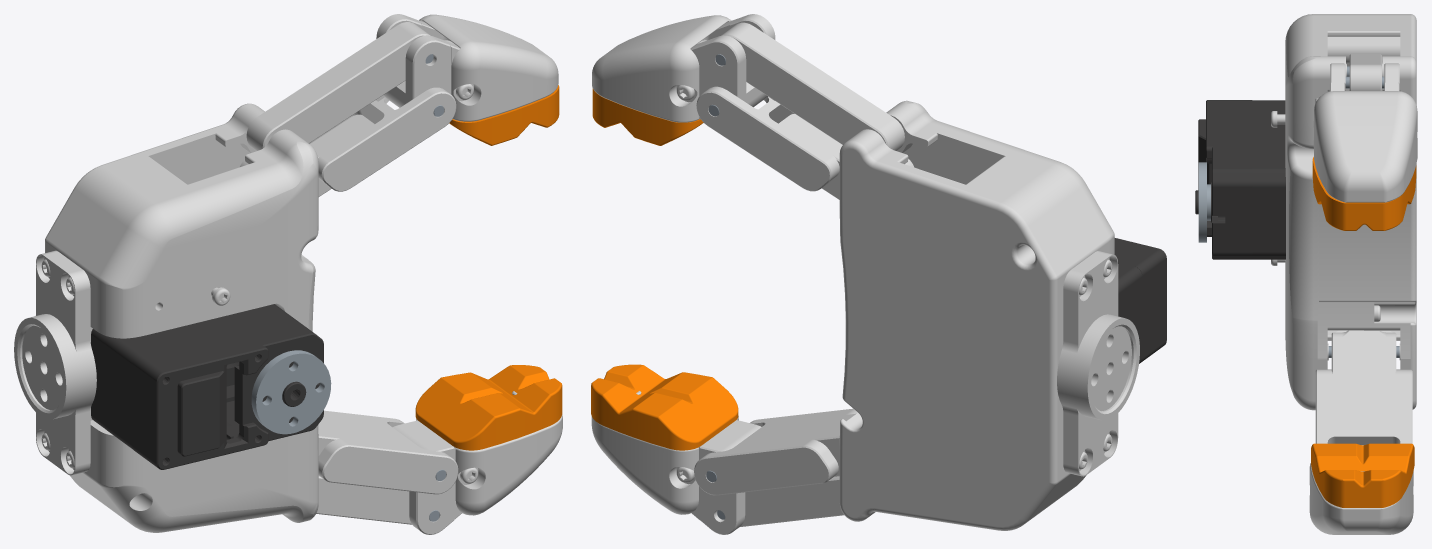
File: gripper_pincopen.obj
3 views of the same model, side by side, from view 1: azimuth 30°, elevation 25°; view 2: azimuth 150°, elevation 25°; view 3: azimuth 270°, elevation 25° (orthographic). The views are drawn at different scales.
Parts seen in each view (by area): view 1: Body1:6, Body1:29, Body1:12, Body1:13, Body1:7, Body1:50, Body1:20, Body1:48, Body1:8, Body1:27, Body1:14, Body1:26 (+5 smaller); view 2: Body1:7, Body1:12, Body1:6, Body1:13, Body1:48, Body1:20, Body1:50, Body1:8, Body1:14, Body1:11, Body1:29, Body1:9 (+3 smaller); view 3: Body1:6, Body1:7, Body1:20, Body1:48, Body1:29, Body1:13, Body1:27, Body1:14, Body1:21, Body1:50, Body1:26, Body1:9 (+1 smaller).
Part boxes in pixels (bbox=[...]): Body1:6: bbox=[70, 129, 318, 532]; Body1:29: bbox=[132, 317, 323, 469]; Body1:12: bbox=[14, 250, 96, 475]; Body1:13: bbox=[415, 365, 562, 450]; Body1:7: bbox=[45, 103, 307, 503]; Body1:50: bbox=[246, 22, 430, 150]; Body1:20: bbox=[419, 14, 558, 121]; Body1:48: bbox=[318, 410, 458, 494]; Body1:8: bbox=[240, 87, 456, 196]; Body1:27: bbox=[104, 304, 292, 449]; Body1:14: bbox=[416, 414, 562, 515]; Body1:26: bbox=[251, 350, 331, 434]; Body1:7: bbox=[839, 129, 1082, 530]; Body1:12: bbox=[1057, 251, 1139, 476]; Body1:6: bbox=[886, 100, 1114, 504]; Body1:13: bbox=[591, 364, 738, 450]; Body1:48: bbox=[694, 408, 857, 495]; Body1:20: bbox=[592, 15, 731, 122]; Body1:50: bbox=[721, 22, 904, 150]; Body1:8: bbox=[696, 86, 913, 199]; Body1:14: bbox=[591, 415, 738, 514]; Body1:11: bbox=[740, 476, 843, 526]; Body1:29: bbox=[1114, 238, 1166, 363]; Body1:9: bbox=[697, 14, 775, 107]; Body1:6: bbox=[1285, 14, 1363, 410]; Body1:7: bbox=[1319, 14, 1416, 409]; Body1:20: bbox=[1313, 91, 1417, 202]; Body1:48: bbox=[1315, 330, 1412, 444]; Body1:29: bbox=[1195, 100, 1252, 259]; Body1:13: bbox=[1311, 443, 1414, 507]; Body1:27: bbox=[1252, 100, 1285, 259]; Body1:14: bbox=[1309, 463, 1413, 534]; Body1:21: bbox=[1312, 157, 1416, 230]; Body1:50: bbox=[1349, 54, 1381, 90]; Body1:26: bbox=[1198, 162, 1210, 242]; Body1:9: bbox=[1330, 63, 1399, 90].
Bounding box in the file's own units: 135 × 125 × 55.06.
